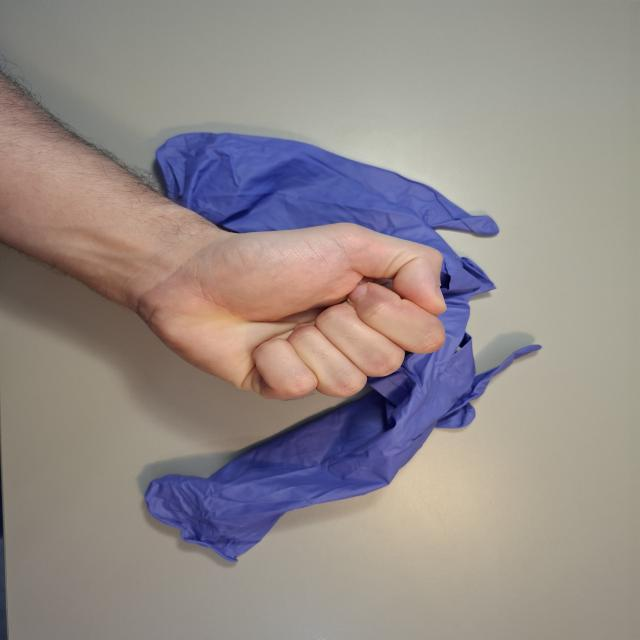glove_off: (128, 218, 454, 404)
